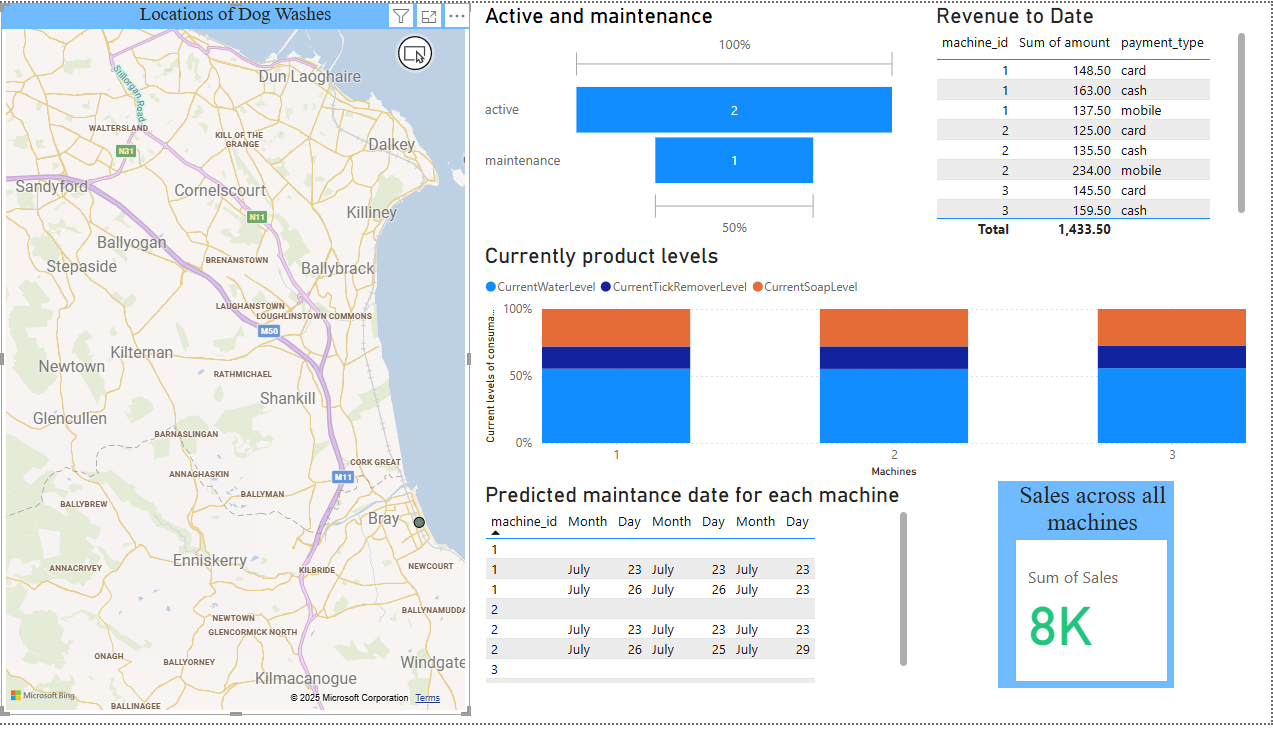

What the dashboard file says about the page in this screenshot:
{"tool":"powerbi","page":{"name":"Page 1","canvas":[1280,720],"ordinal":0},"visuals":[{"type":"map","title":"Locations of Dog Washes","fields":{"Category":["machine_table.location"],"Y":["Avg(machine_table.lat)"],"X":["Min(machine_table.long)"]},"box":[9.7,0,468.8,712],"z":0},{"type":"funnel","title":"Active and maintenance ","fields":{"Category":["machine_table.status"],"Y":["CountNonNull(machine_table.machine_id)"]},"box":[489.2,0,422.1,240.2],"z":1},{"type":"tableEx","title":"Revenue to Date","fields":{"Values":["sales_table.machine_id","Sum(sales_table.amount)","sales_table.payment_type"]},"box":[940.3,0,319.7,240],"z":2},{"type":"hundredPercentStackedColumnChart","title":"Currently product levels","fields":{"Y":["product_log.CurrentWaterLevel","product_log.CurrentTickRemoverLevel","product_log.CurrentSoapLevel"],"Category":["product_log.machine_id"]},"box":[489,240,771,239.1],"z":3},{"type":"tableEx","title":"Predicted maintance date for each machine","fields":{"Values":["dog_wash_predictions_grouped.machine_id","dog_wash_predictions_grouped.predicted_soap_level_replacement.Variation.Date Hierarchy.Month","dog_wash_predictions_grouped.predicted_soap_level_replacement.Variation.Date Hierarchy.Day","dog_wash_predictions_grouped.predicted_tick_remover_level_replacement.Variation.Date Hierarchy.Month","dog_wash_predictions_grouped.predicted_tick_remover_level_replacement.Variation.Date Hierarchy.Day","dog_wash_predictions_grouped.predicted_water_level_replacement.Variation.Date Hierarchy.Month","dog_wash_predictions_grouped.predicted_water_level_replacement.Variation.Date Hierarchy.Day"]},"box":[488.7,479.5,433.2,205.8],"z":4},{"type":"cardVisual","title":"Sales across all machines ","fields":{"Data":["Sum(sales_table.sale_id)"]},"box":[1007.3,478.5,175.9,206.8],"z":5}]}

Visuals, with their boxes in screenshot pixels (x1, y1, x2, y2), scaled from the page's 1280x720 canvas onto the 1273x729 screenshot:
"Locations of Dog Washes" map: Rect(10, 0, 476, 721)
"Active and maintenance " funnel: Rect(487, 0, 906, 243)
"Revenue to Date" tableEx: Rect(935, 0, 1253, 243)
"Currently product levels" hundredPercentStackedColumnChart: Rect(486, 243, 1253, 485)
"Predicted maintance date for each machine" tableEx: Rect(486, 485, 917, 694)
"Sales across all machines " cardVisual: Rect(1002, 484, 1177, 694)
